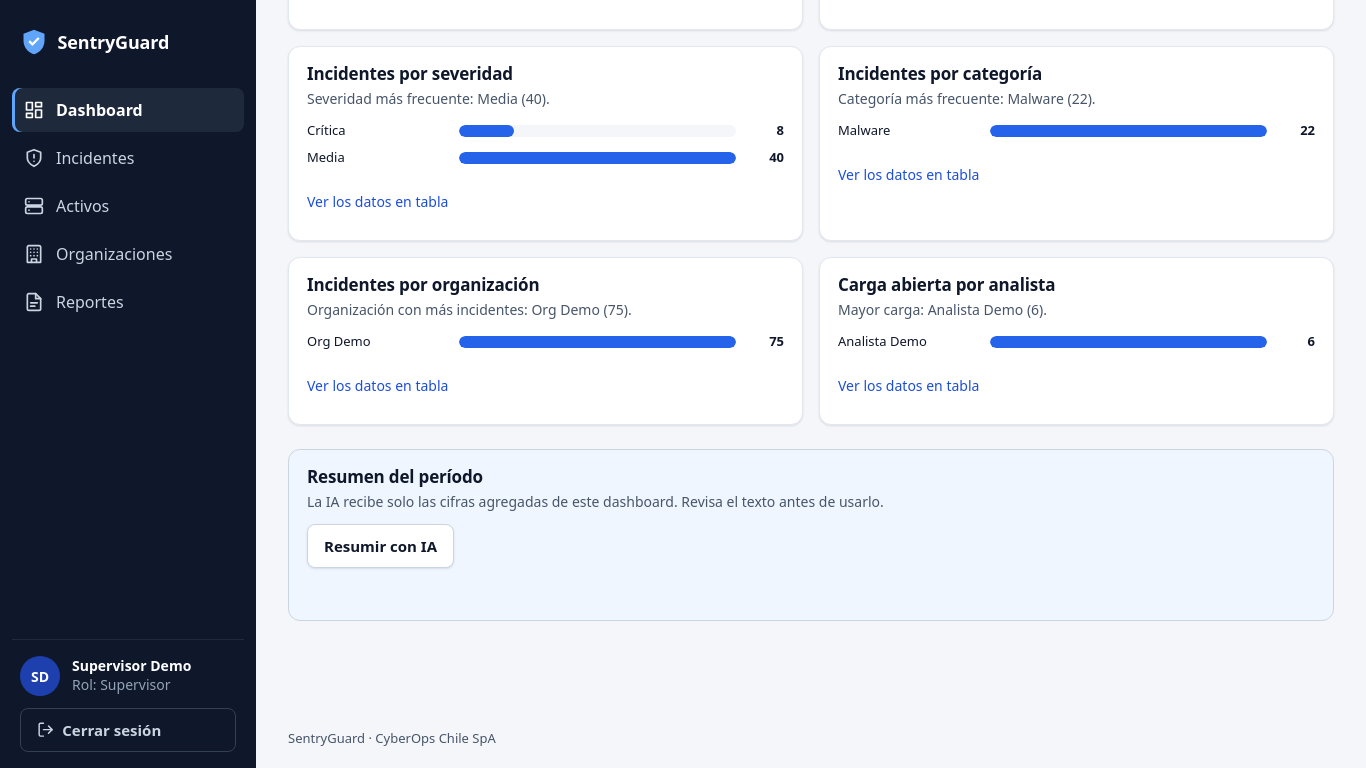
Test: Dashboard › el resumen con IA se anuncia y lleva la etiqueta "Generado con IA"
(page scrolled)
Click the button "Resumir con IA".
click(380, 546)  # box [307,524,454,568]
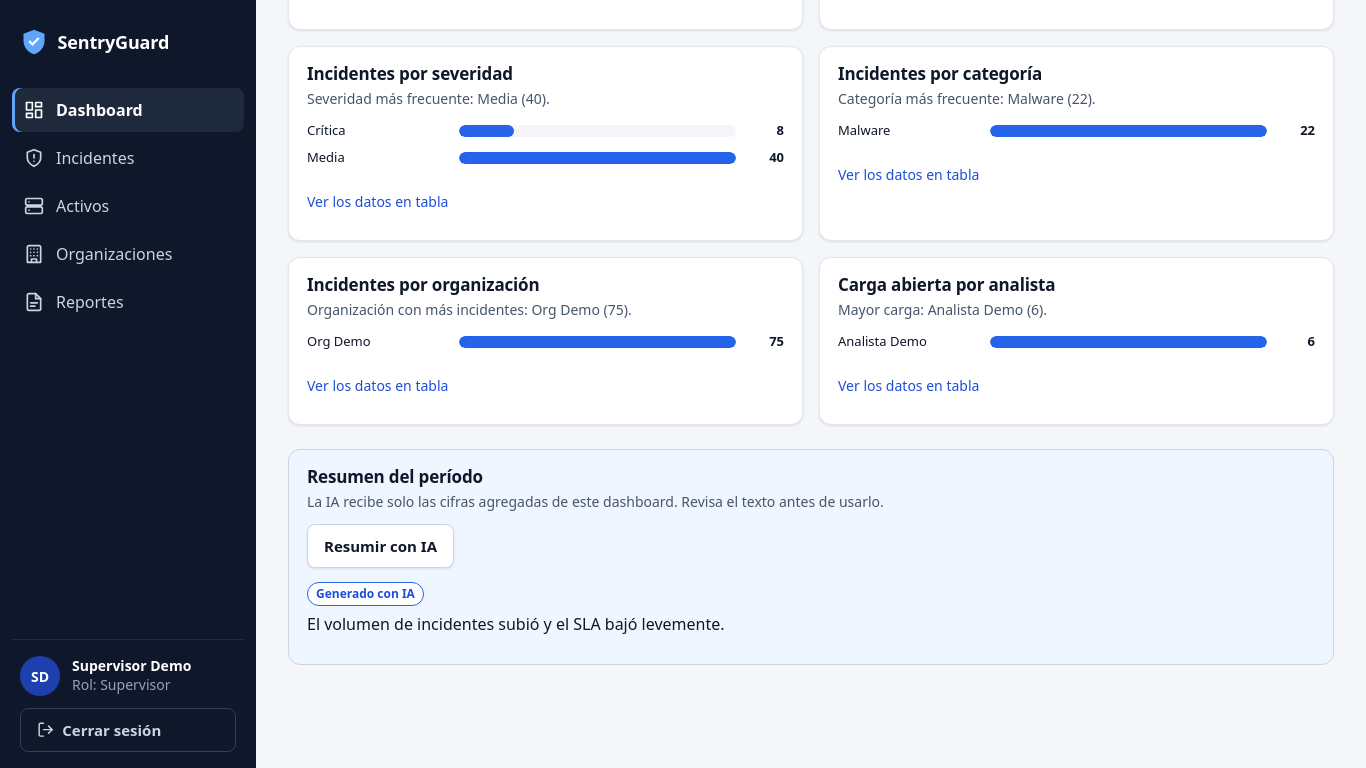
Expected: the text "Generado con IA" is shown, [307,582,424,606]
Expected: the text "El volumen de incidentes subió y el SLA bajó levemente." is shown, [307,613,724,635]
